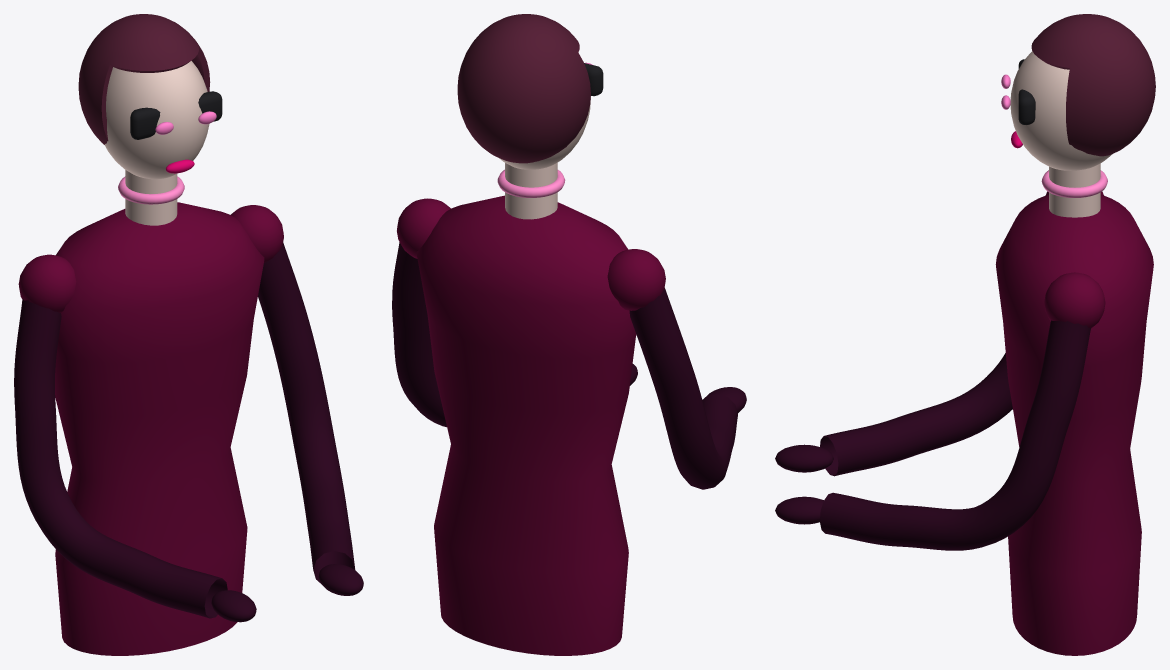
Rendered from Mistress_Placeholder.fbx.
The picture shows the model from 3 angles, left to right: view 1: azimuth 30°, elevation 25°; view 2: azimuth 150°, elevation 25°; view 3: azimuth 270°, elevation 25°; orthographic projection. The views are drawn at different scales.
Visible parts, largest first — view 1: Mistress_Torso, Mistress_Arms, Mistress_Head, Mistress_Hair, Mistress_Shoulders, Mistress_Hands, Mistress_Neck, Mistress_Mask, Mistress_Choker; view 2: Mistress_Torso, Mistress_Hair, Mistress_Arms, Mistress_Shoulders, Mistress_Neck, Mistress_Choker, Mistress_Head, Mistress_Hands; view 3: Mistress_Torso, Mistress_Arms, Mistress_Hair, Mistress_Head, Mistress_Shoulders, Mistress_Hands, Mistress_Neck, Mistress_Choker, Mistress_Mask.
Part boxes in pixels (box(x1,y1,x2,y2)): Mistress_Torso: box(55, 202, 264, 655); Mistress_Arms: box(14, 242, 355, 618); Mistress_Head: box(104, 61, 209, 179); Mistress_Hair: box(78, 14, 210, 144); Mistress_Shoulders: box(18, 205, 283, 312); Mistress_Hands: box(211, 564, 363, 622); Mistress_Neck: box(125, 170, 177, 225); Mistress_Mask: box(130, 91, 222, 139); Mistress_Choker: box(118, 176, 184, 204); Mistress_Torso: box(416, 195, 636, 655); Mistress_Hair: box(457, 14, 590, 163); Mistress_Arms: box(392, 242, 737, 489); Mistress_Shoulders: box(397, 198, 665, 310); Mistress_Neck: box(505, 162, 557, 219); Mistress_Choker: box(497, 169, 565, 197); Mistress_Head: box(499, 96, 590, 169); Mistress_Hands: box(630, 364, 746, 412); Mistress_Torso: box(995, 194, 1153, 655); Mistress_Arms: box(819, 320, 1090, 550); Mistress_Hair: box(1031, 14, 1155, 156); Mistress_Head: box(1010, 51, 1112, 170); Mistress_Shoulders: box(1044, 191, 1105, 328); Mistress_Hands: box(775, 444, 833, 524); Mistress_Neck: box(1049, 163, 1100, 217); Mistress_Choker: box(1041, 170, 1107, 197); Mistress_Mask: box(1018, 59, 1035, 124).
Size of the model in its own units: 0.5654 by 1.07 by 0.62.
